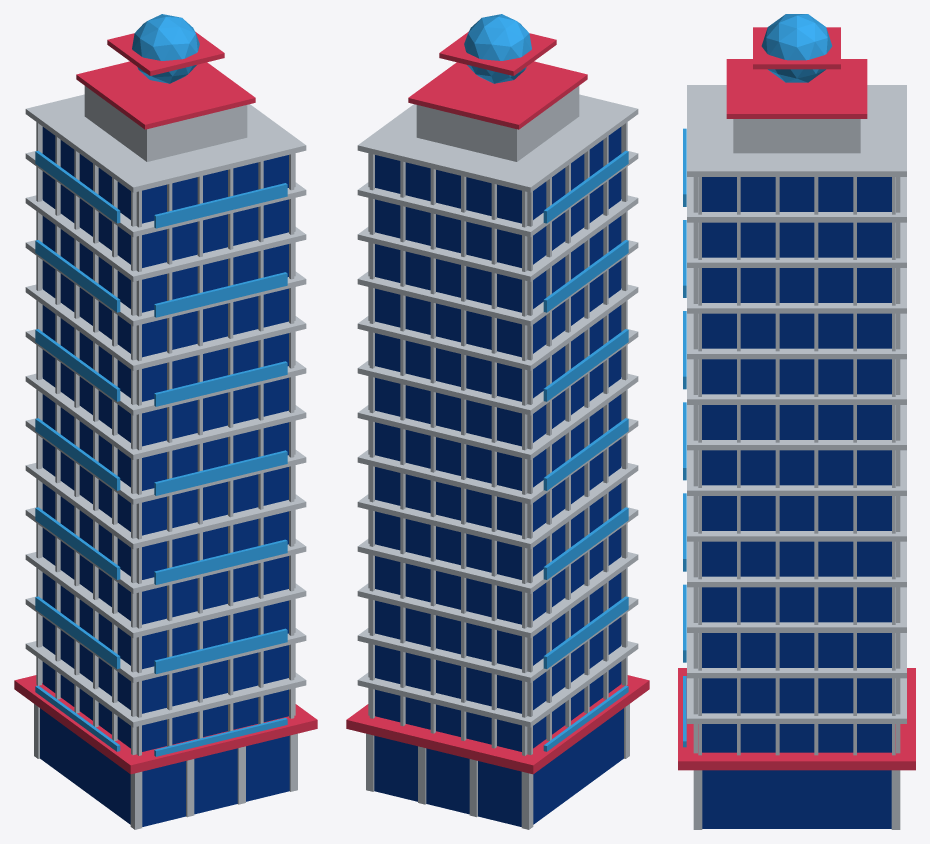
The model's file is user_sf_bldg_2.glb.
3 renders of one model, left to right at view 1: azimuth 30°, elevation 25°; view 2: azimuth 150°, elevation 25°; view 3: azimuth 270°, elevation 25°, orthographic. The views are drawn at different scales.
Visible parts, largest first — view 1: ModernistHotel; view 2: ModernistHotel; view 3: ModernistHotel.
Boxes of the visible parts, x1,y1,x2,y2 form: ModernistHotel: (14, 14, 317, 829); ModernistHotel: (346, 14, 649, 829); ModernistHotel: (678, 14, 915, 829).
Bounding box in the file's own units: 14.04 × 54.3 × 15.12.
